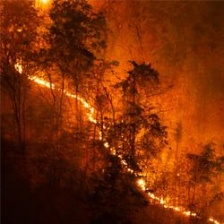fire: (28, 61, 224, 223)
